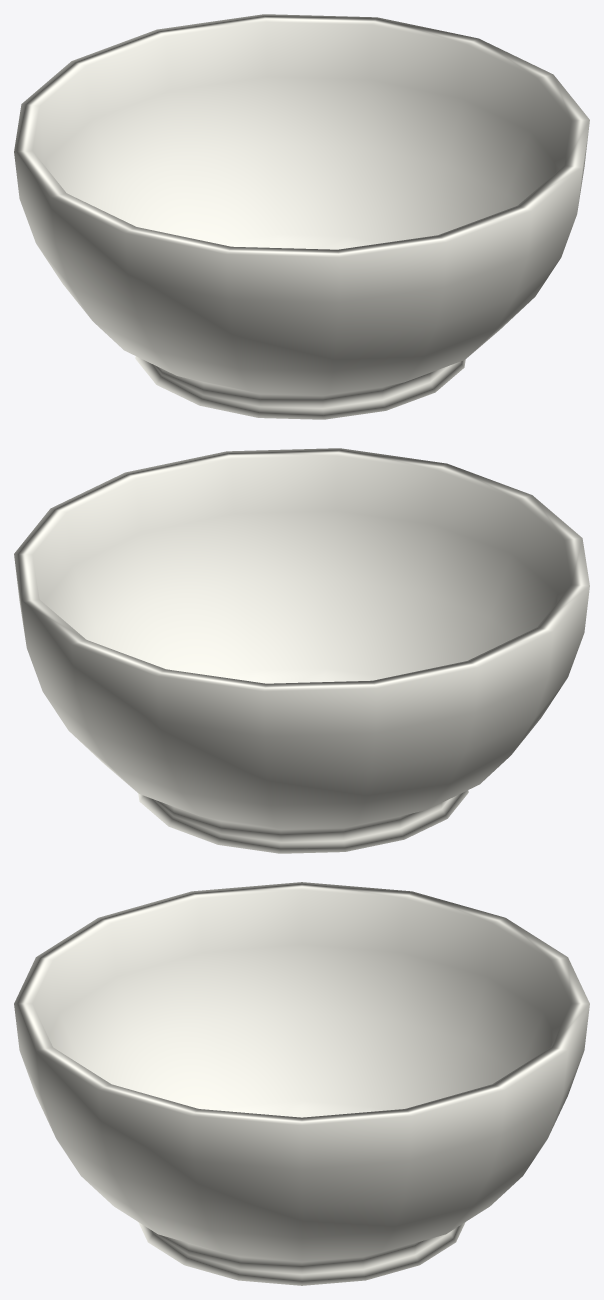
The model's file is sara_sokofukai01.fbx.
3 views of the same model, one above another, from view 1: azimuth 30°, elevation 25°; view 2: azimuth 150°, elevation 25°; view 3: azimuth 270°, elevation 25° (orthographic).
Parts seen in each view (by area): view 1: pSphere3; view 2: pSphere3; view 3: pSphere3.
Part boxes in pixels (left/top/right/bottom): pSphere3: left=14, top=14, right=589, bottom=419; pSphere3: left=14, top=448, right=589, bottom=853; pSphere3: left=14, top=882, right=589, bottom=1285.
Bounding box in the file's own units: 20 × 8.11 × 20.
1 material, 1 textured.
